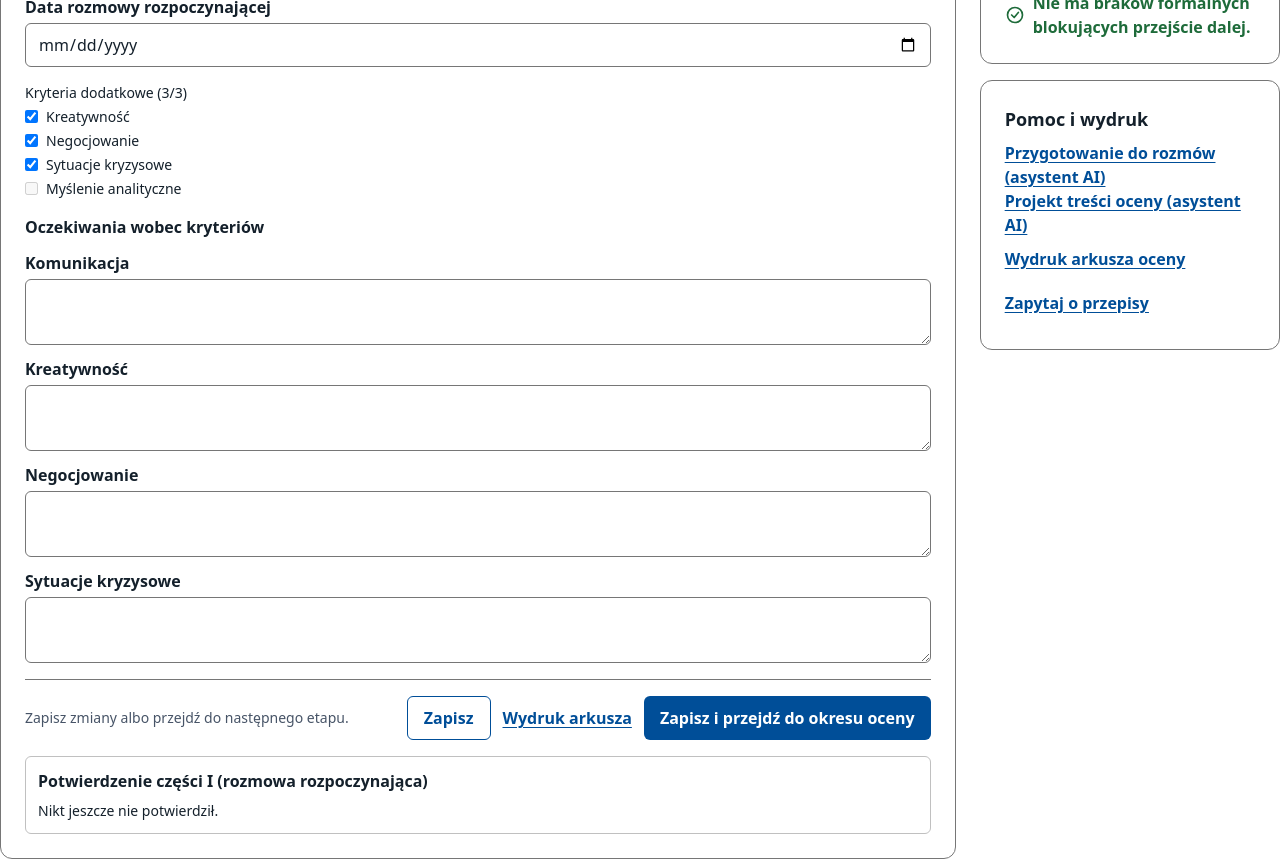
ReviewWizard › shows the Polish gap list returned by the backend when advancing fails
(page scrolled)
Click the button "Zapisz i przejdź do okresu oceny" at (787, 718), box left=644, top=696, right=931, bottom=740
(page scrolled)
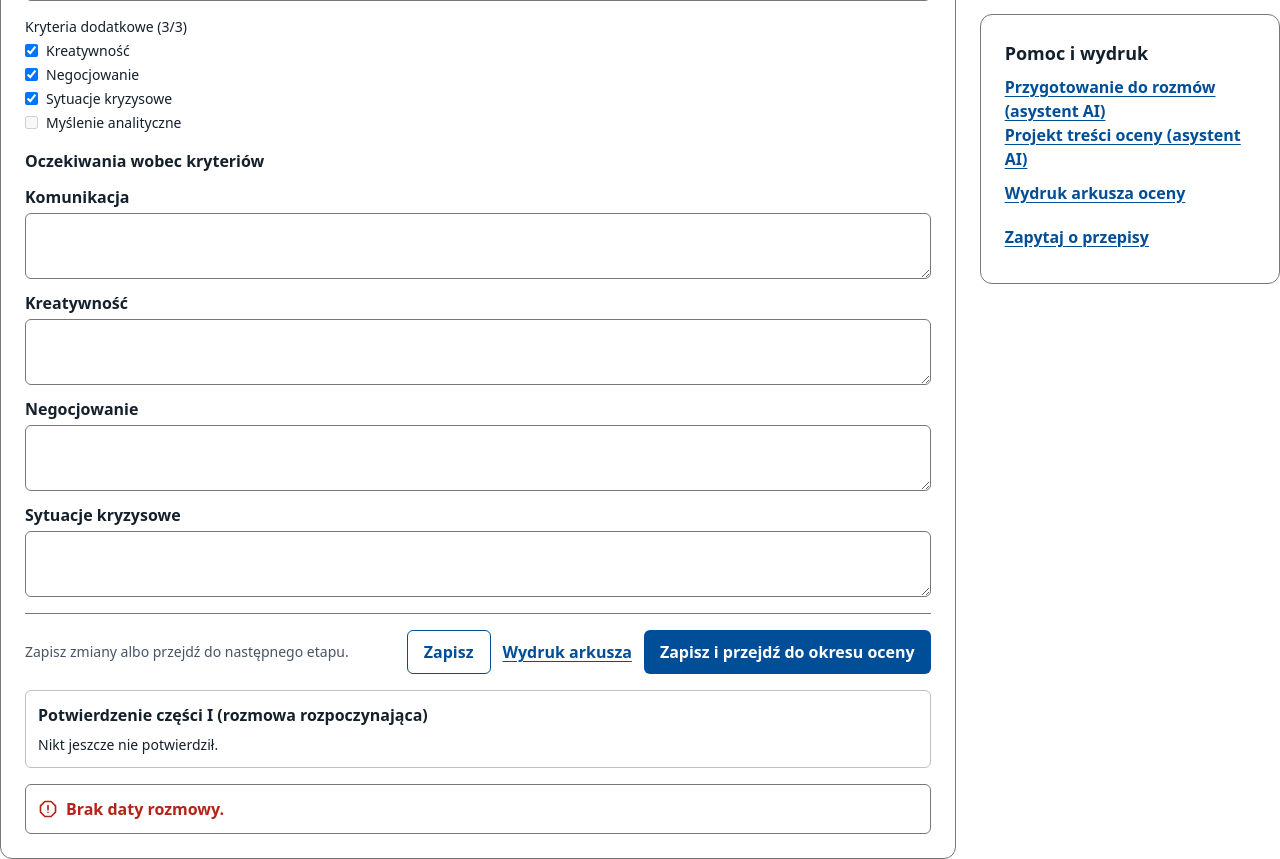
Expected: the message reads "Brak daty rozmowy.", left=66, top=798, right=224, bottom=820
